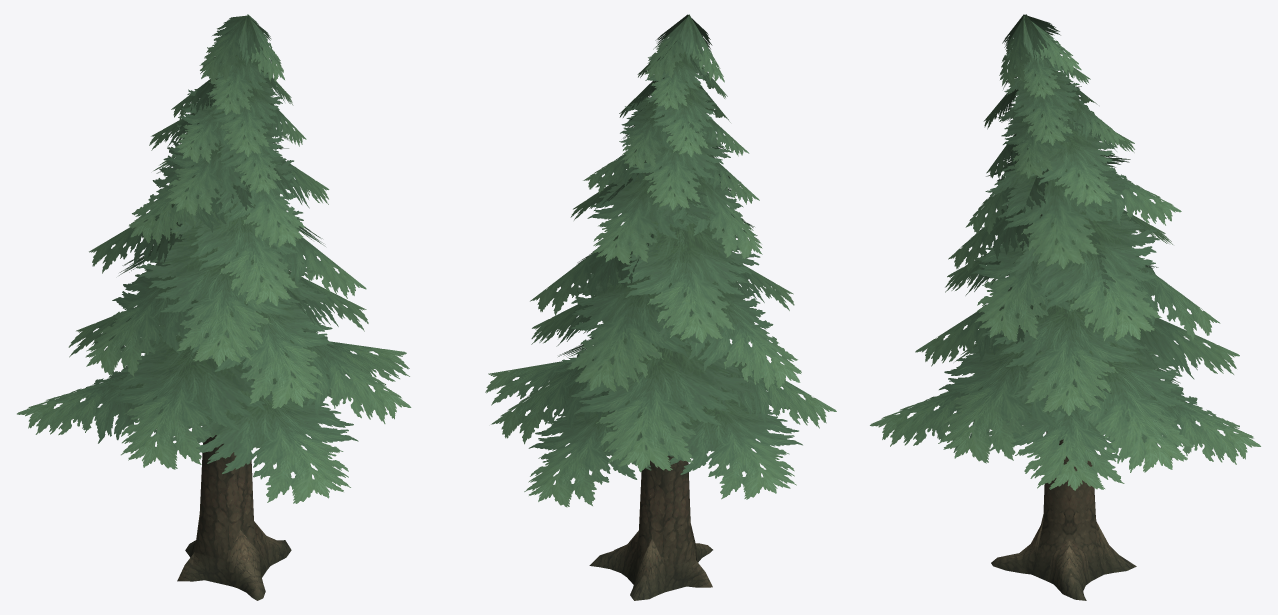
File: pine.glb
The picture shows the model from 3 angles, left to right: view 1: azimuth 30°, elevation 25°; view 2: azimuth 150°, elevation 25°; view 3: azimuth 270°, elevation 25°; orthographic projection. The views are drawn at different scales.
Visible parts, largest first — view 1: Cylinder002; view 2: Cylinder002; view 3: Cylinder002.
Part boxes in pixels (x1=…): Cylinder002: x1=17, y1=14, x2=411, y2=600; Cylinder002: x1=485, y1=14, x2=836, y2=600; Cylinder002: x1=870, y1=14, x2=1260, y2=600.
Bounding box in the file's own units: 2.84 × 4.19 × 2.72.
2 materials, 2 textured.
